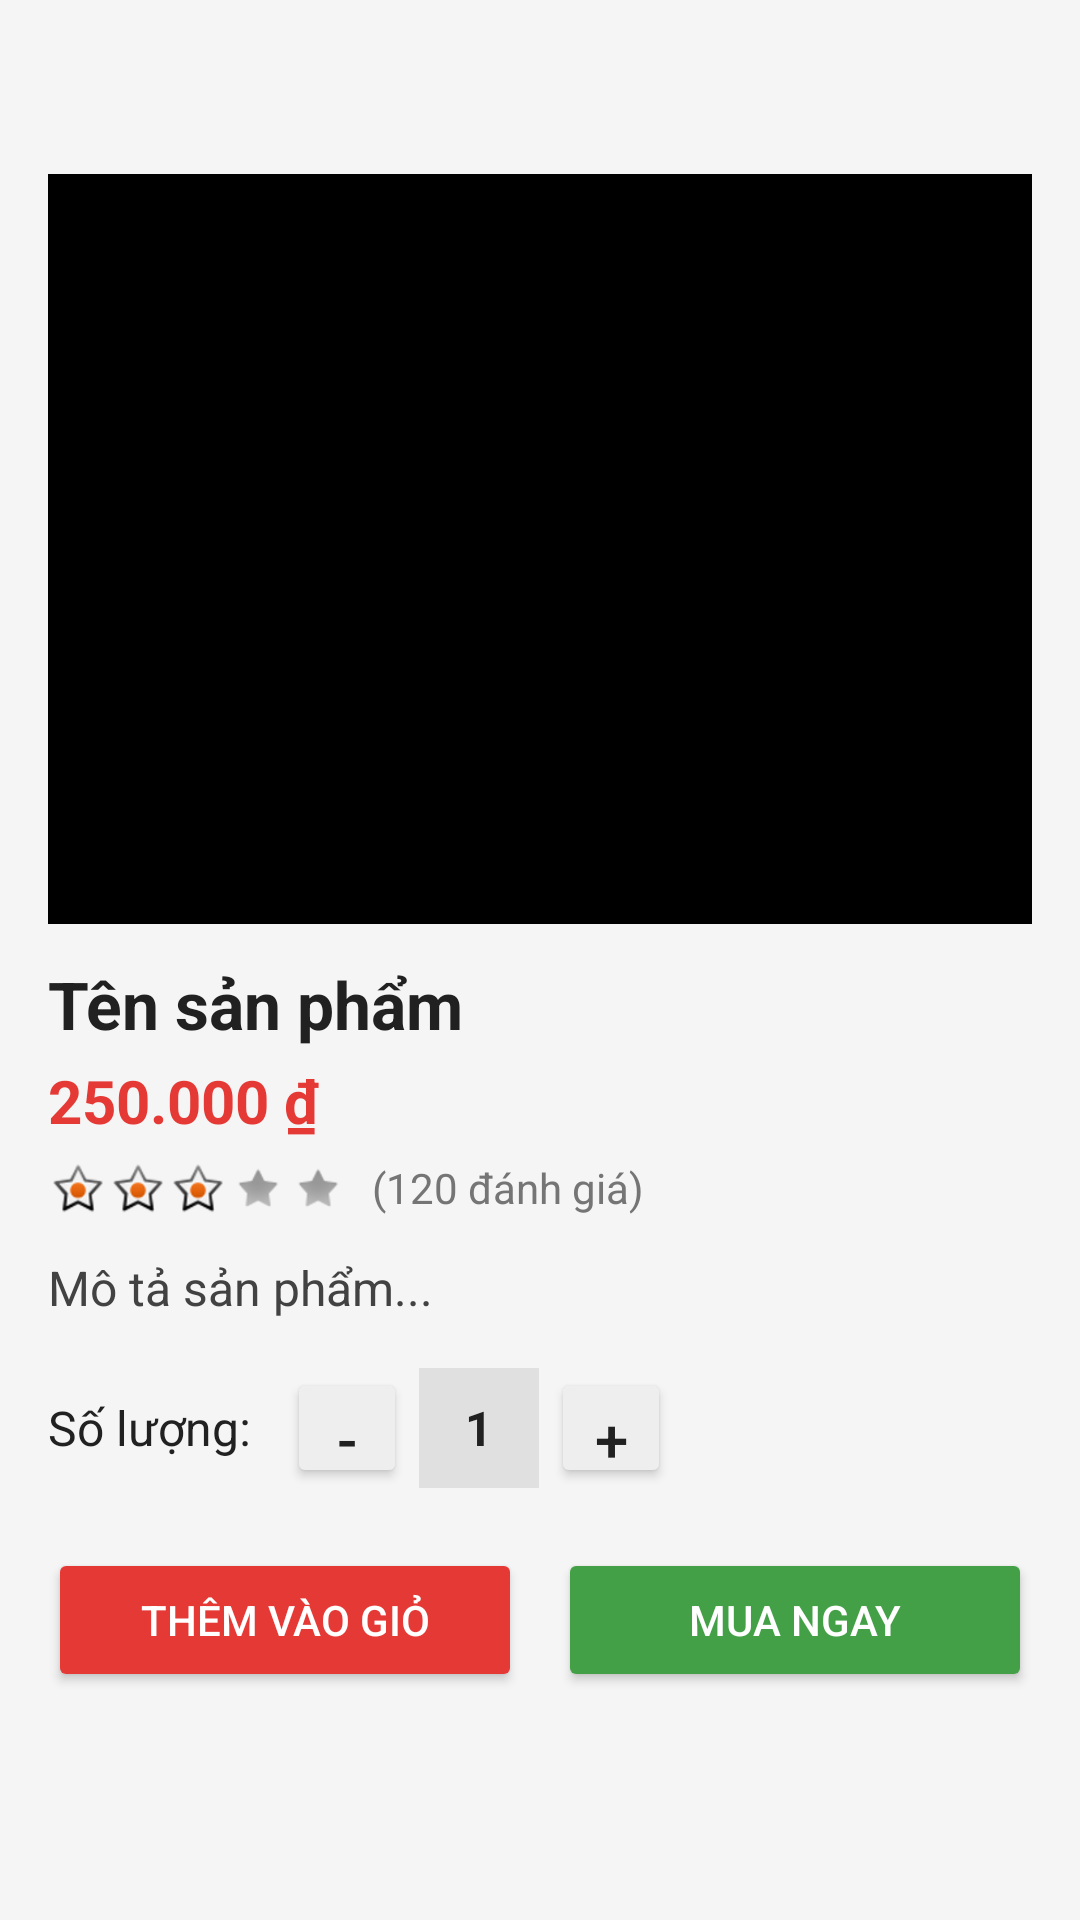

Named icons in this screenshot (1080x1920) and their centers, [x,y]:
star off: [258,1188], [318,1188]
star on: [78,1188], [138,1188], [198,1188]
